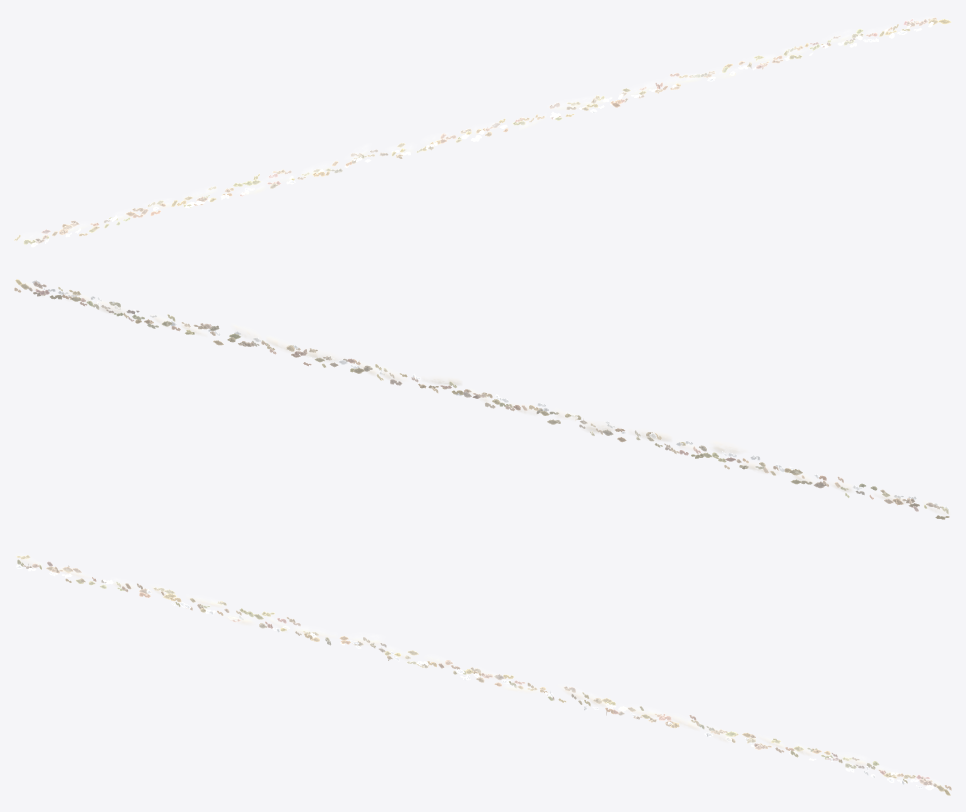
Rendered from surge_front.glb.
3 views of the same model, one above another, from view 1: azimuth 30°, elevation 25°; view 2: azimuth 150°, elevation 25°; view 3: azimuth 330°, elevation 25° (orthographic).
Bounding box in the file's own units: 607 × 10 × 19.84.
Materials: 3 (3 with a texture image).
